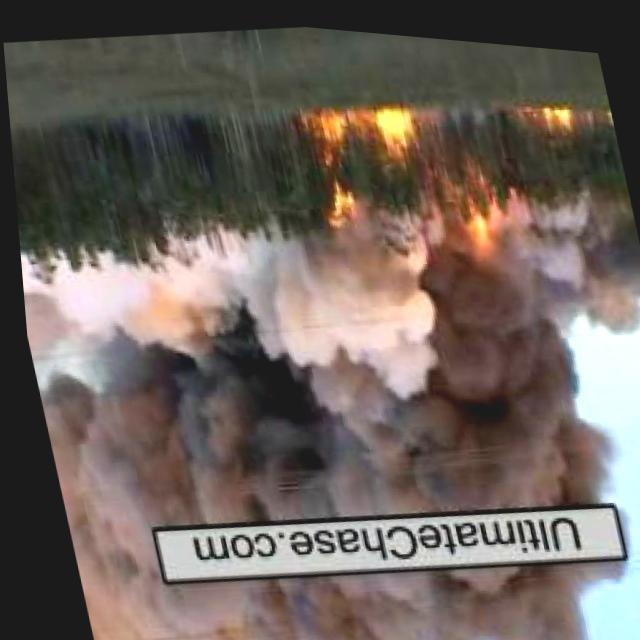Fire: (301, 92, 430, 211), (456, 197, 494, 251), (527, 90, 571, 130)
Smoke: (11, 176, 619, 571), (68, 514, 640, 640)
